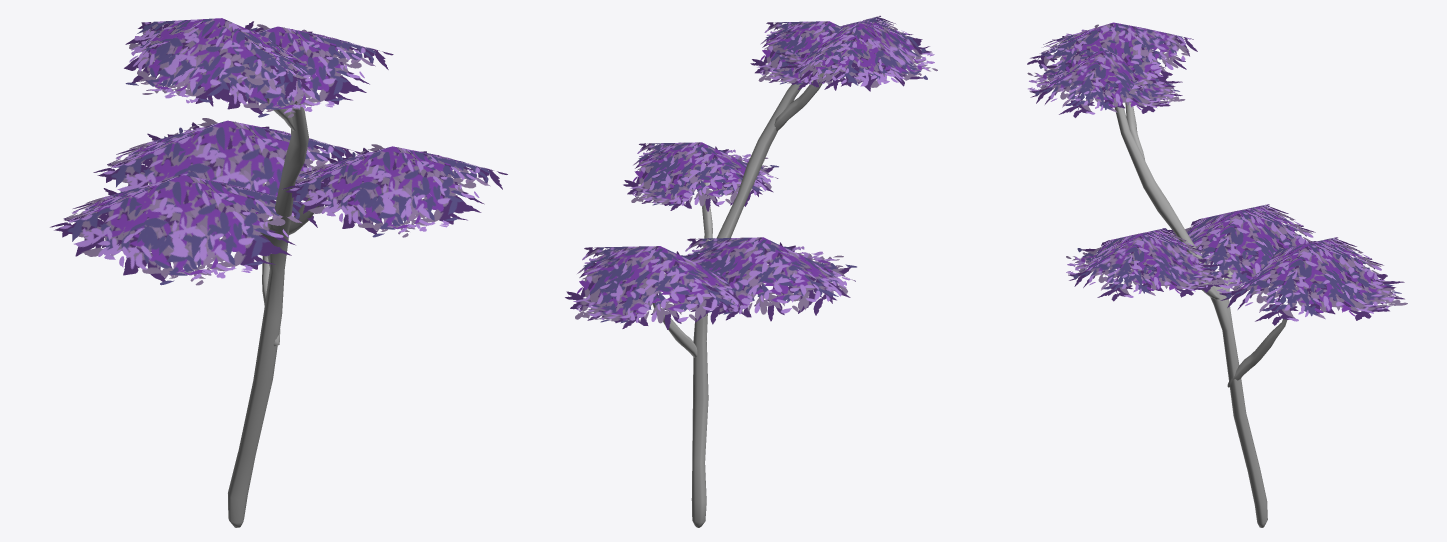
Rendered from purple_tree.fbx.
3 renders of one model, left to right at view 1: azimuth 30°, elevation 25°; view 2: azimuth 150°, elevation 25°; view 3: azimuth 270°, elevation 25°, orthographic. The views are drawn at different scales.
Visible parts, largest first — view 1: pPlane116; view 2: pPlane116; view 3: pPlane116.
Part boxes in pixels (x1=…): pPlane116: x1=50, y1=18, x2=507, y2=527; pPlane116: x1=565, y1=15, x2=937, y2=527; pPlane116: x1=1027, y1=22, x2=1407, y2=527.
Bounding box in the file's own units: 1.59 × 2.17 × 1.85.
